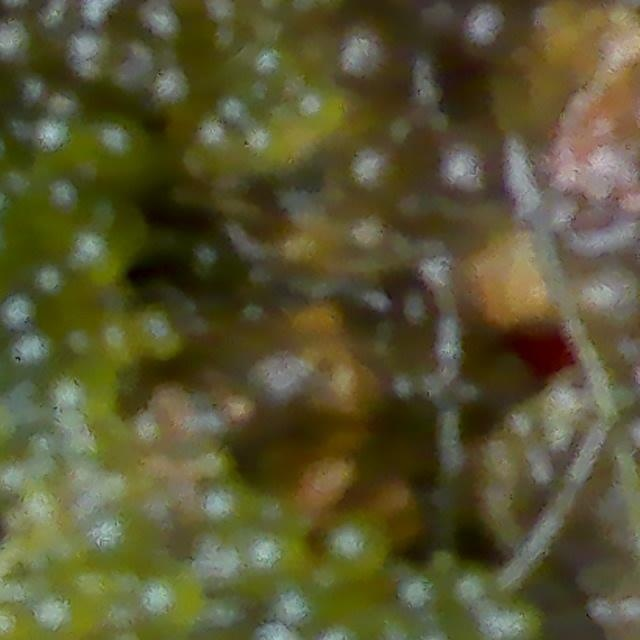SeaGrape: (336, 17, 392, 80), (140, 570, 200, 628), (329, 515, 385, 573), (345, 141, 399, 199), (55, 362, 108, 415), (455, 0, 517, 45), (443, 139, 490, 192), (88, 517, 143, 561)
